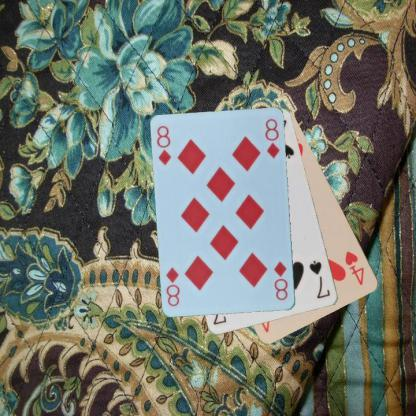4h: (342, 249, 366, 286)
7s: (307, 258, 332, 300)
8d: (154, 123, 173, 166), (272, 258, 290, 302)
